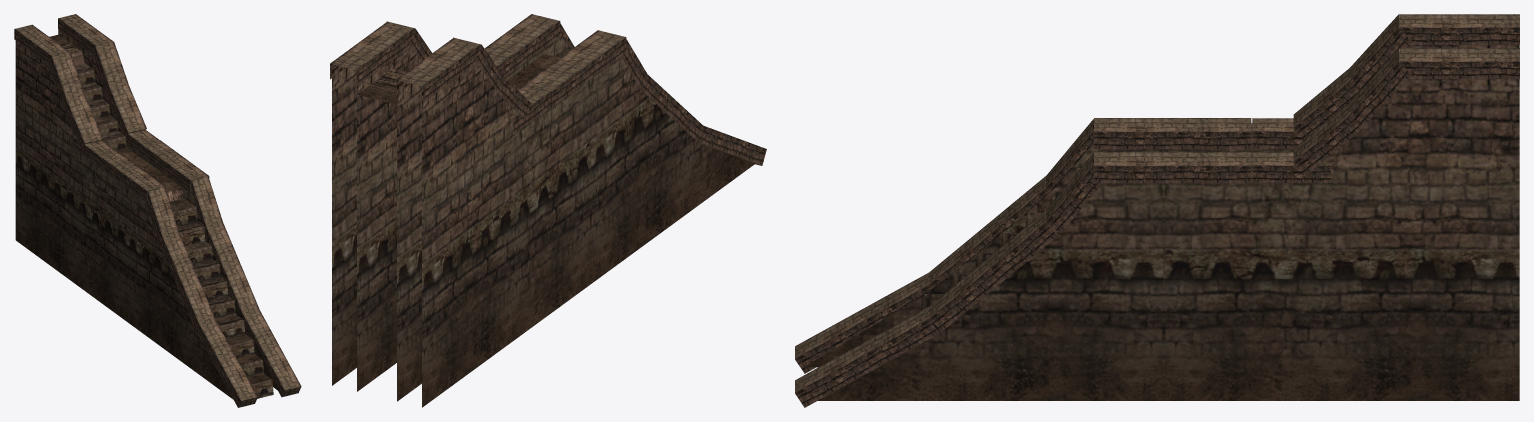
The model's file is wall08.fbx.
3 views of the same model, side by side, from view 1: azimuth 30°, elevation 25°; view 2: azimuth 150°, elevation 25°; view 3: azimuth 270°, elevation 25° (orthographic). The views are drawn at different scales.
Visible parts, largest first — view 1: wall08; view 2: wall08; view 3: wall08.
Part boxes in pixels (box(x1,y1,x2,y2)): wall08: box(14, 14, 301, 407); wall08: box(330, 14, 766, 407); wall08: box(795, 14, 1519, 407).
Bounding box in the file's own units: 258 × 865 × 1619.
